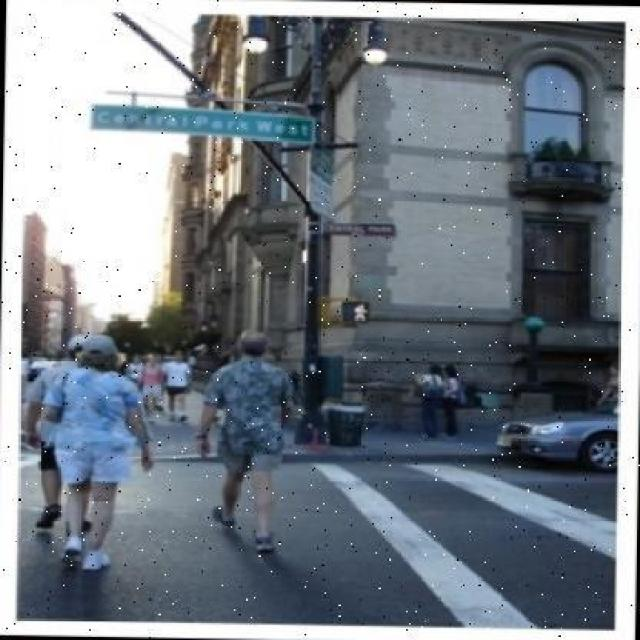Person: (46, 334, 151, 568), (200, 329, 295, 553), (411, 357, 446, 434), (160, 348, 195, 424), (436, 361, 464, 437)
